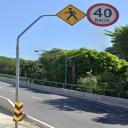speed_limit_40: (87, 2, 118, 28)
